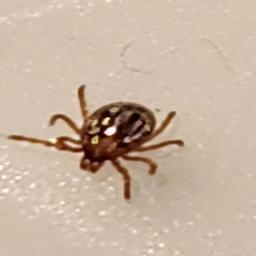Rhipicephalus sanguineus: (6, 85, 184, 203)
